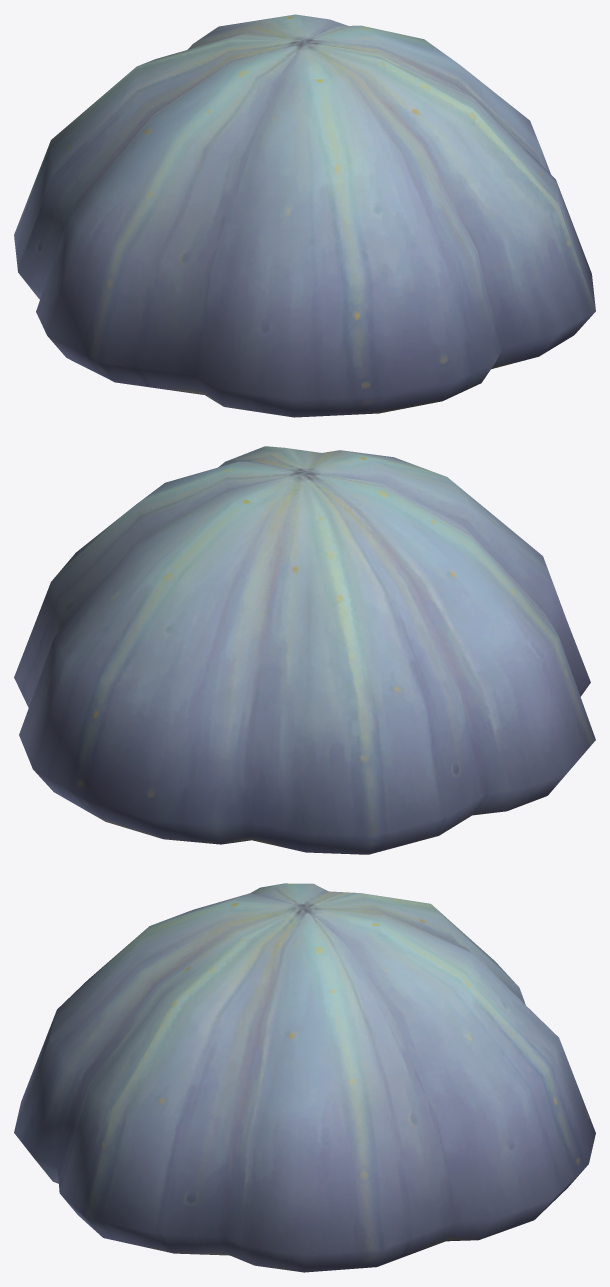
File: Homeworld_Exterior_Xm_Plant_Prop_Xrq_01_Lod0.fbx
3 views of the same model, one above another, from view 1: azimuth 30°, elevation 25°; view 2: azimuth 150°, elevation 25°; view 3: azimuth 270°, elevation 25° (orthographic). The views are drawn at different scales.
Parts seen in each view (by area): view 1: Area_Xm_Prop_CWSM_Xrq_02_Lod0; view 2: Area_Xm_Prop_CWSM_Xrq_02_Lod0; view 3: Area_Xm_Prop_CWSM_Xrq_02_Lod0.
Part boxes in pixels (left/top/right/bottom): Area_Xm_Prop_CWSM_Xrq_02_Lod0: left=14, top=14, right=595, bottom=417; Area_Xm_Prop_CWSM_Xrq_02_Lod0: left=14, top=446, right=595, bottom=854; Area_Xm_Prop_CWSM_Xrq_02_Lod0: left=14, top=883, right=595, bottom=1272.
Size of the model in its own units: 2.25 by 1.08 by 2.26.
Materials: 1 (1 with a texture image).
